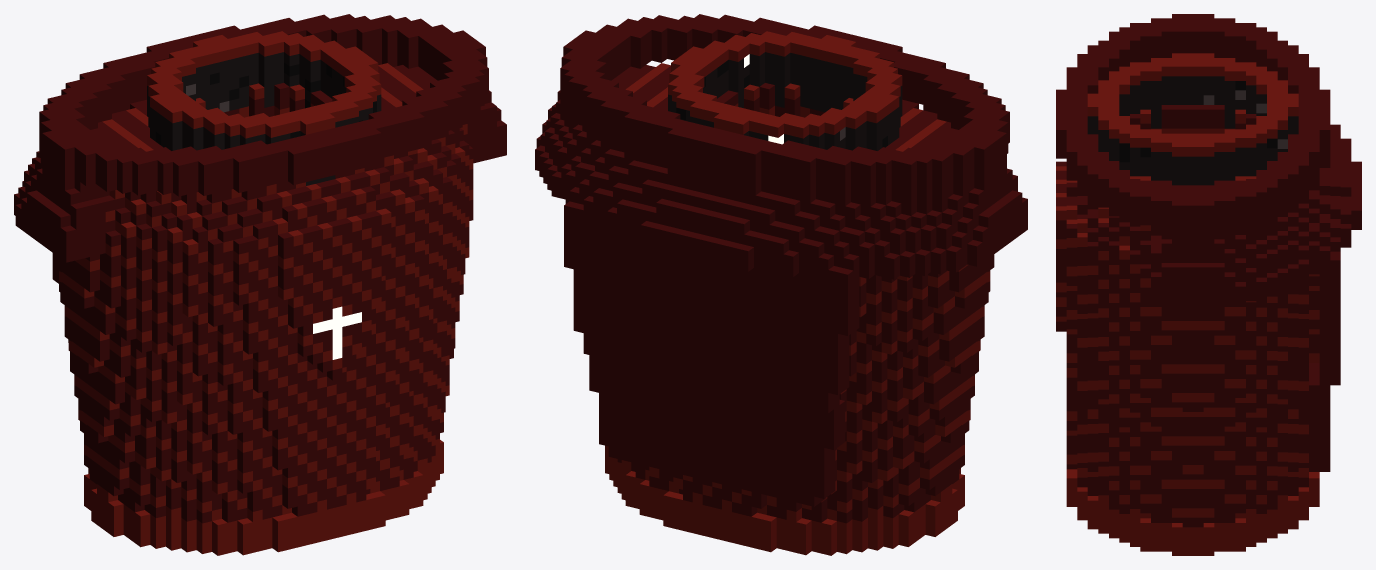
File: leather_masterwork_chest.glb
3 views of the same model, side by side, from view 1: azimuth 30°, elevation 25°; view 2: azimuth 150°, elevation 25°; view 3: azimuth 270°, elevation 25° (orthographic). The views are drawn at different scales.
Parts seen in each view (by area): view 1: leather_masterwork_chest; view 2: leather_masterwork_chest; view 3: leather_masterwork_chest.
Boxes of the visible parts, x1=… form: leather_masterwork_chest: x1=14, y1=14, x2=506, y2=555; leather_masterwork_chest: x1=535, y1=14, x2=1027, y2=555; leather_masterwork_chest: x1=1056, y1=14, x2=1361, y2=555.
Size of the model in its own units: 0.54 by 0.48 by 0.348.
